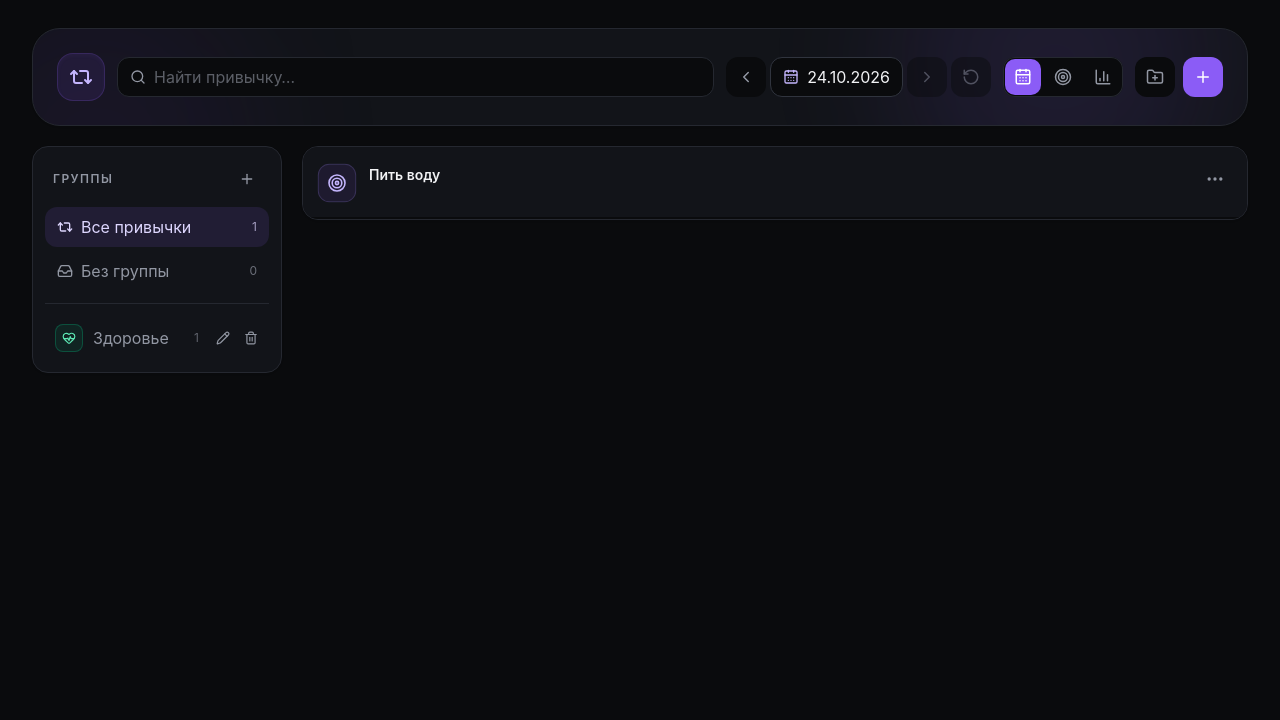
Test case: HabitsPage › adds one count unit per habit click and keeps progress controls in the details popover
The width and height of the screenshot is (1280, 720).
Click the button with aria-label "Добавить выполнение привычки «Пить воду»: 0 из 3". click: (337, 183)
box: 317,161 -> 1185,203
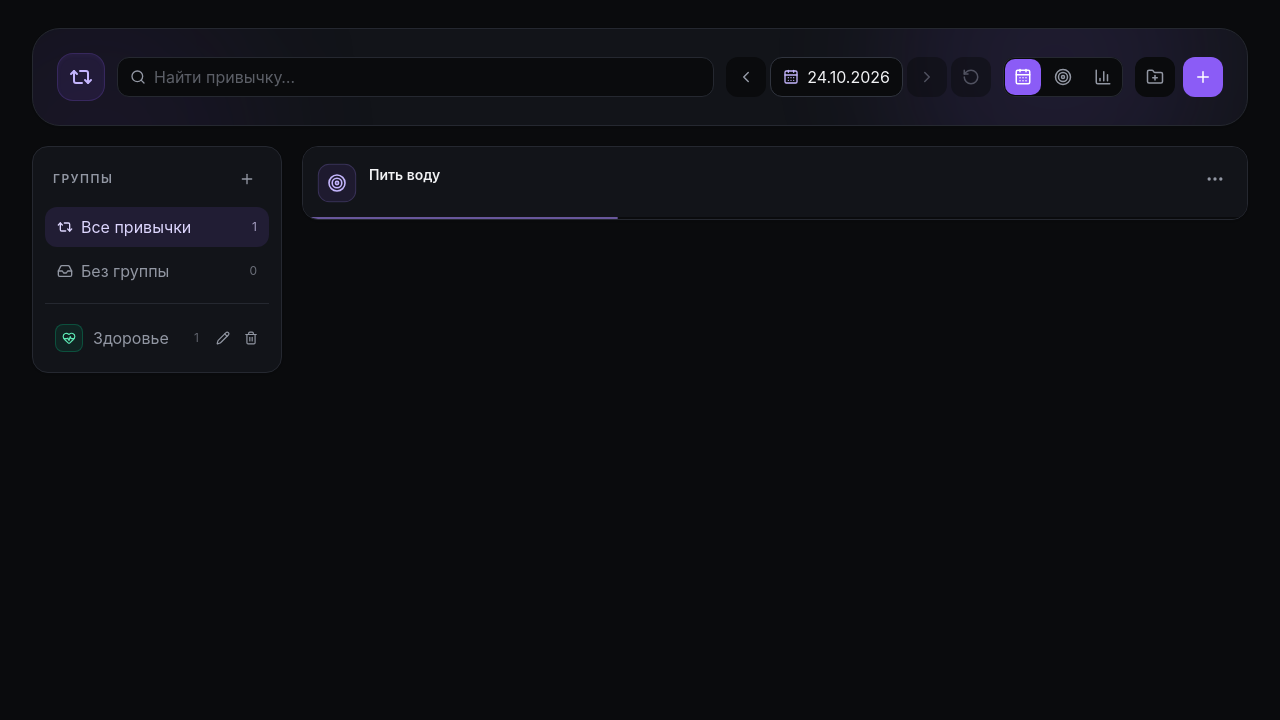
Click the button with aria-label "Добавить выполнение привычки «Пить воду»: 1 из 3". click: (337, 183)
box: 317,161 -> 1185,203
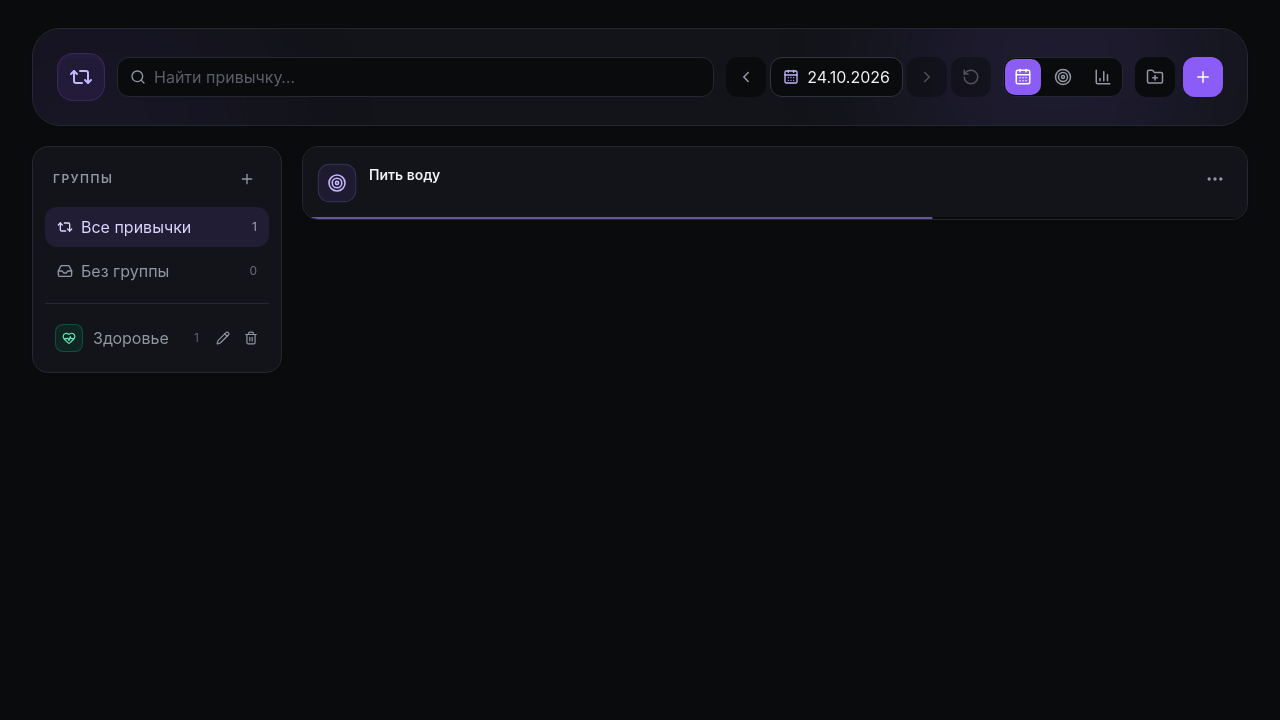
Click the button with aria-label "Добавить выполнение привычки «Пить воду»: 2 из 3". click: (337, 183)
box: 317,161 -> 1185,203
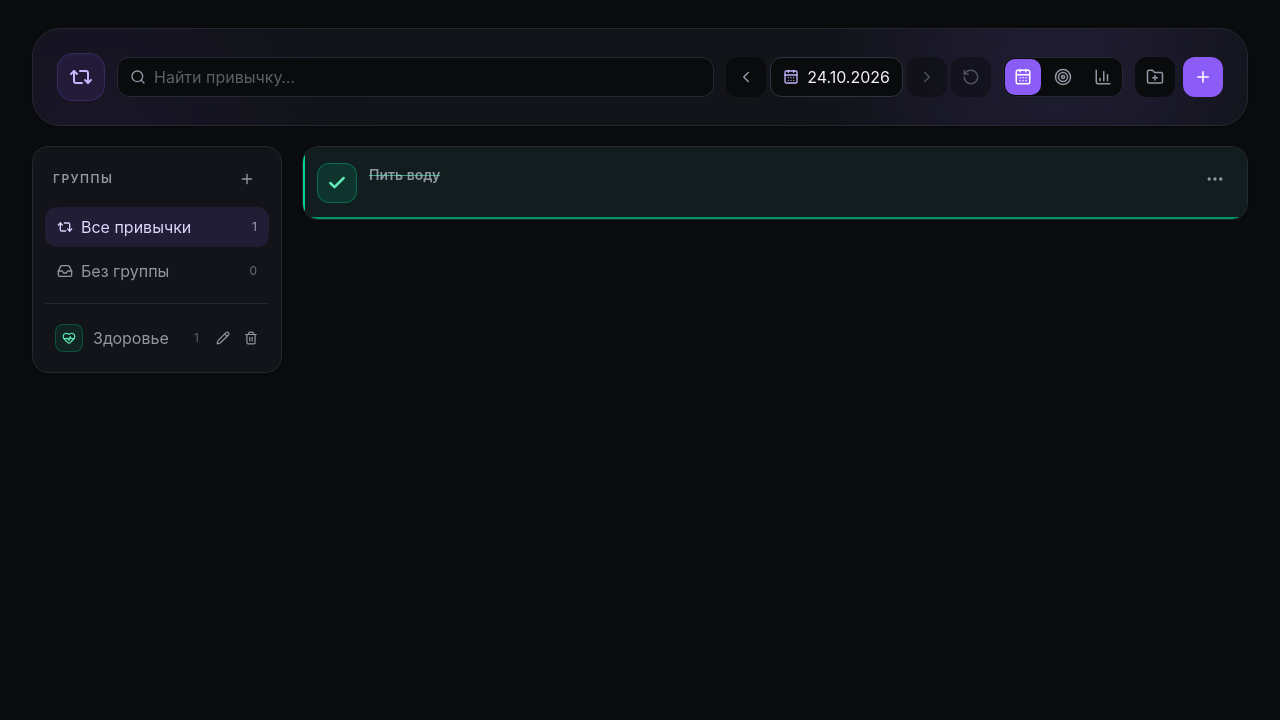
Check: the element showing "Пить воду" has attribute data-completed="true", box 303,147 -> 1247,219
Click the button named "Подробнее о привычке «Пить воду»". click: (1215, 179)
box: 1197,161 -> 1233,197
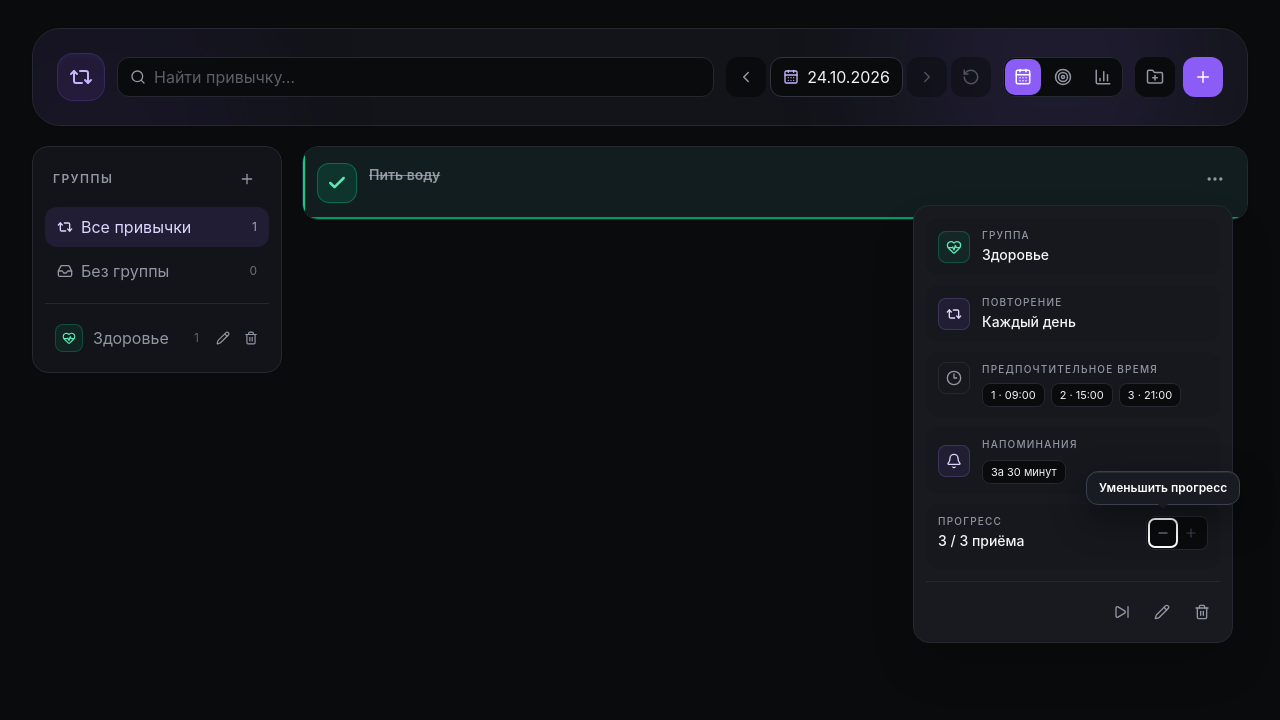
Check: the dialog with test id "habit-details-popover" shows "3 / 3 приёма", box 938,532 -> 1024,549
Check: the dialog with test id "habit-details-popover" shows "1 · 09:00", box 991,388 -> 1036,402
Check: the dialog with test id "habit-details-popover" shows "2 · 15:00", box 1060,388 -> 1104,402
